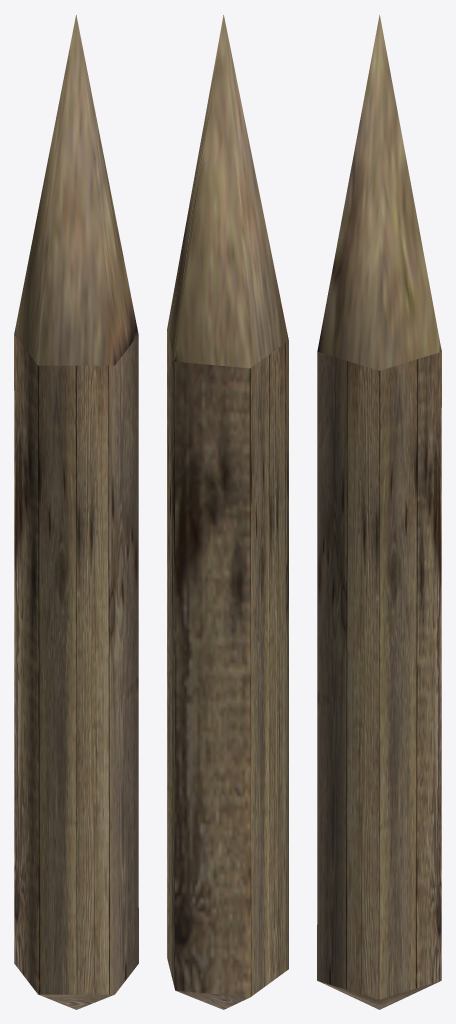
The model's file is projectile-bolt.dae.
The picture shows the model from 3 angles, left to right: view 1: azimuth 90°, elevation 25°; view 2: azimuth 150°, elevation 25°; view 3: azimuth 270°, elevation 25°; orthographic projection.
Visible parts, largest first — view 1: bolt_projectile; view 2: bolt_projectile; view 3: bolt_projectile.
Boxes of the visible parts, x1,y1,x2,y2 form: bolt_projectile: [14, 15, 138, 1009]; bolt_projectile: [167, 15, 288, 1009]; bolt_projectile: [317, 15, 441, 1009].
Size of the model in its own units: 0.3154 by 0.3322 by 2.93.
